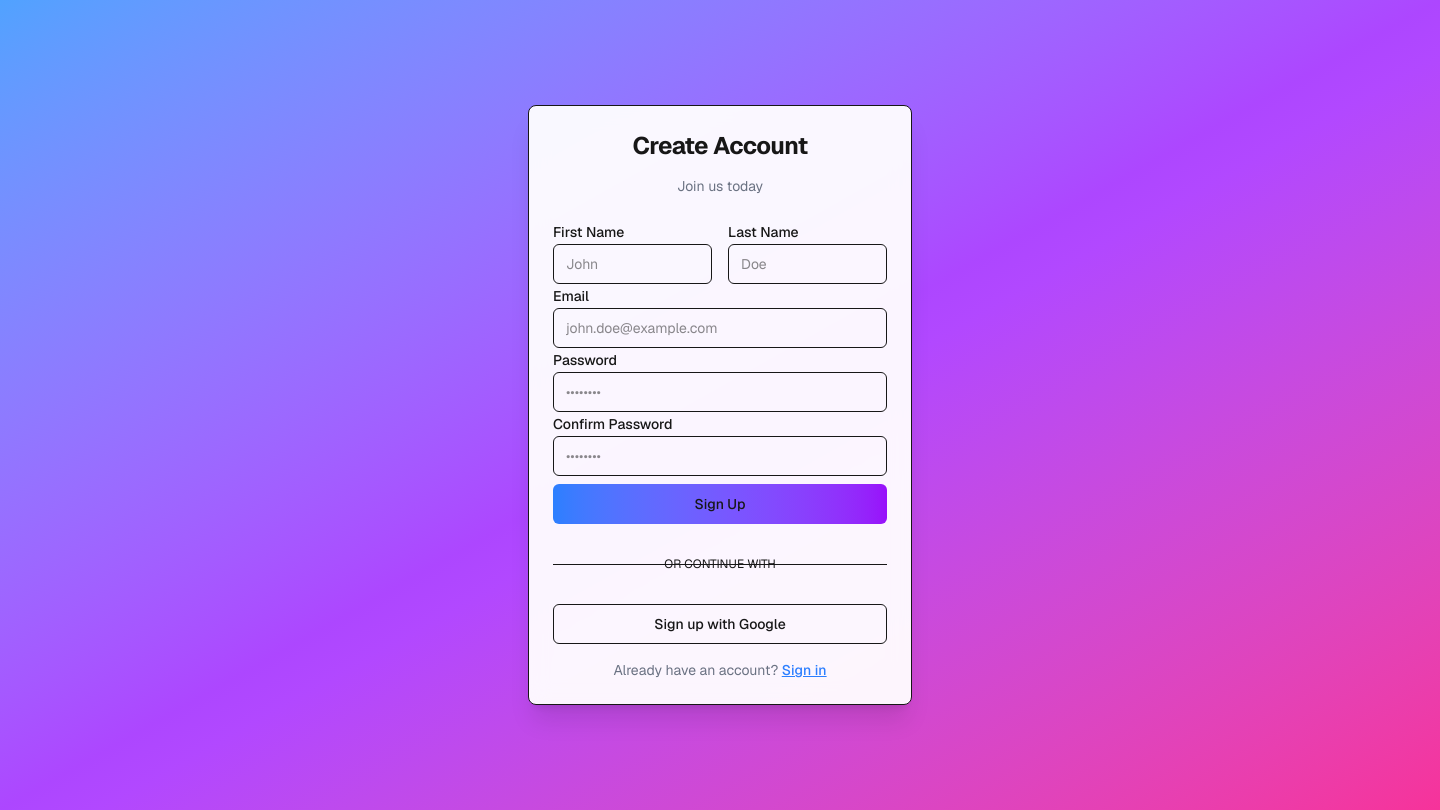
Scenario: SignupPage › validates required fields
The image size is (1440, 810).
Click the button "Sign Up".
click(720, 504)  # box [553,484,887,524]
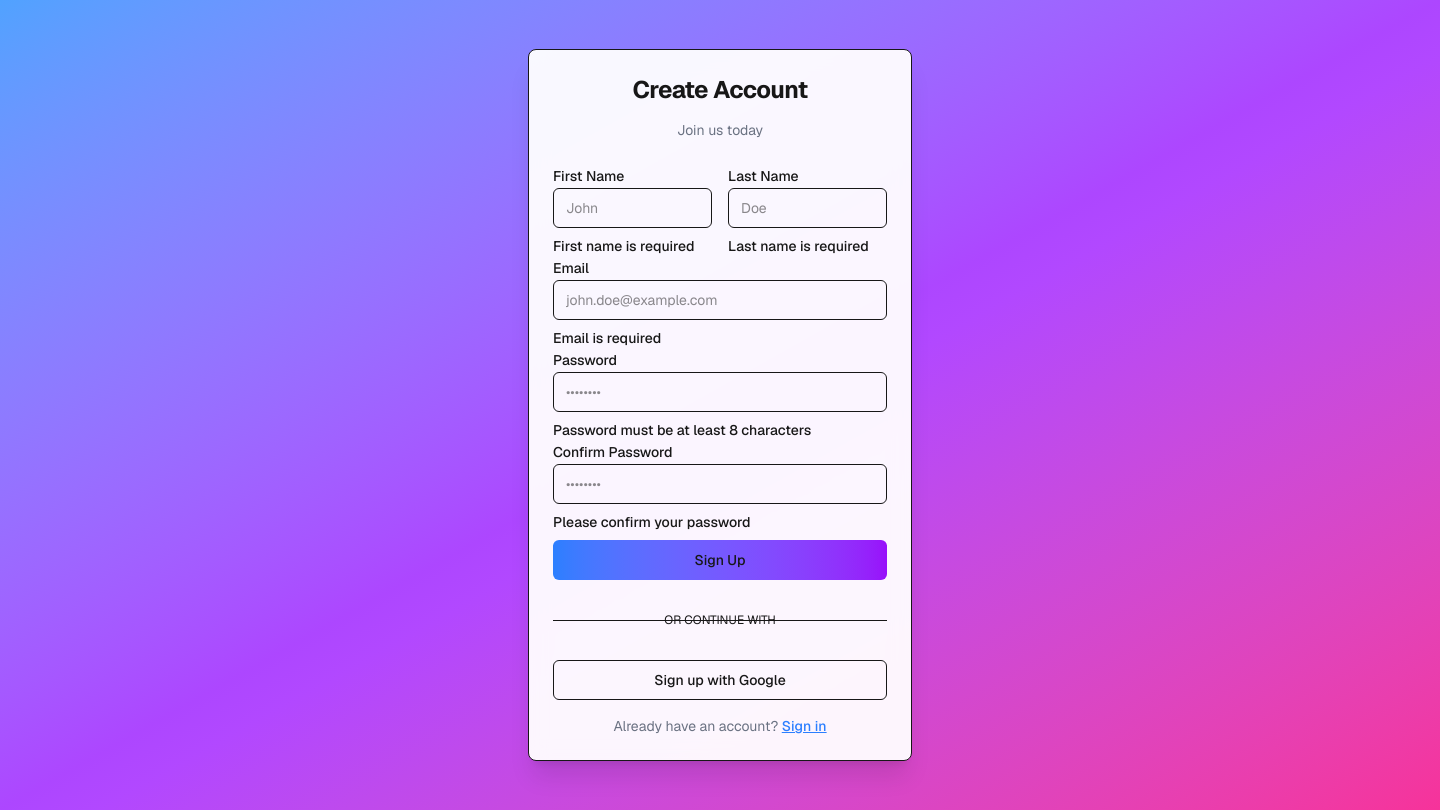
Now the text "First name is required" is shown, box [553,236,712,256]
Now the text "Last name is required" is shown, box [728,236,887,256]
Now the text "Email is required" is shown, box [553,329,661,347]
